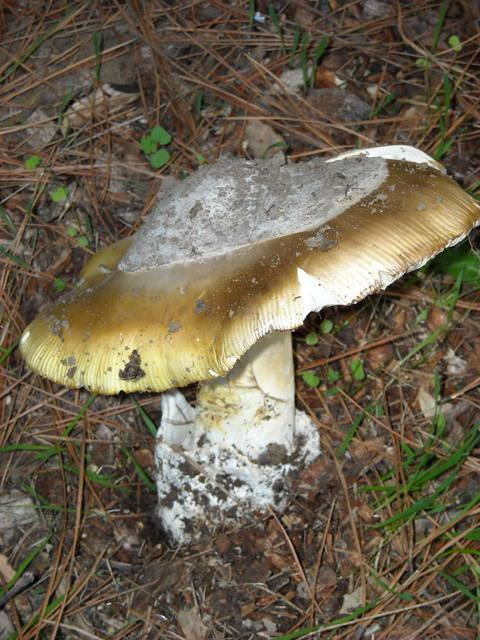edible_mushroom: (17, 142, 479, 547)
